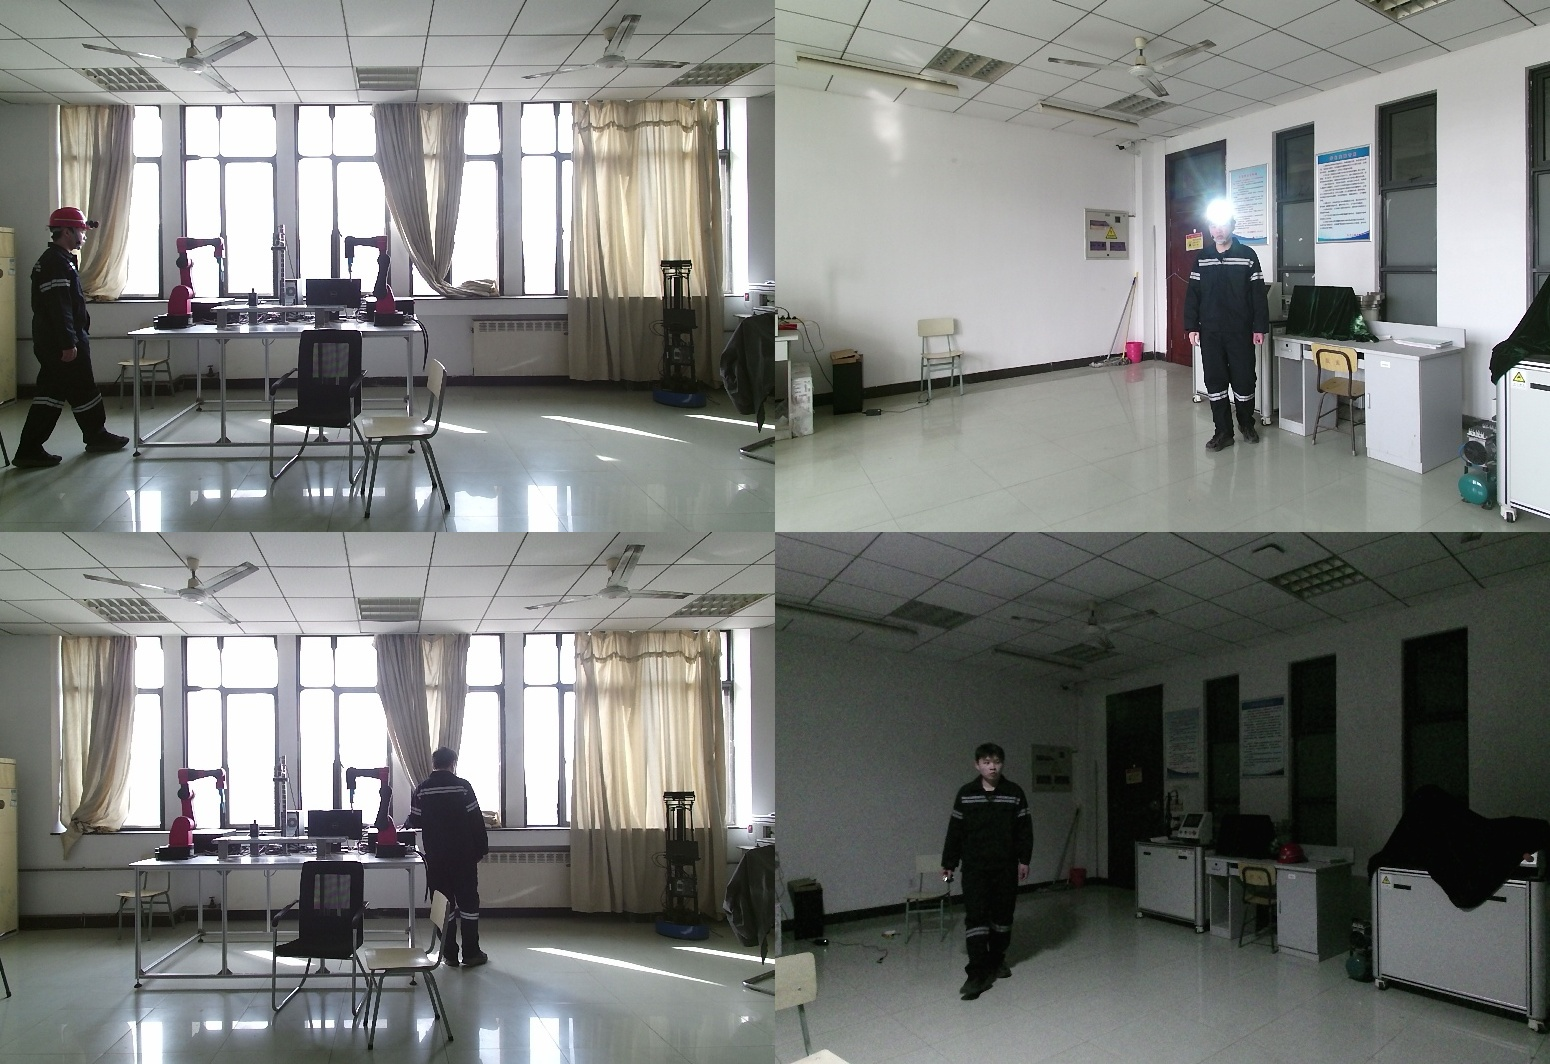person: (12, 207, 130, 467), (943, 747, 1040, 997), (1191, 205, 1281, 452), (403, 746, 495, 969)
